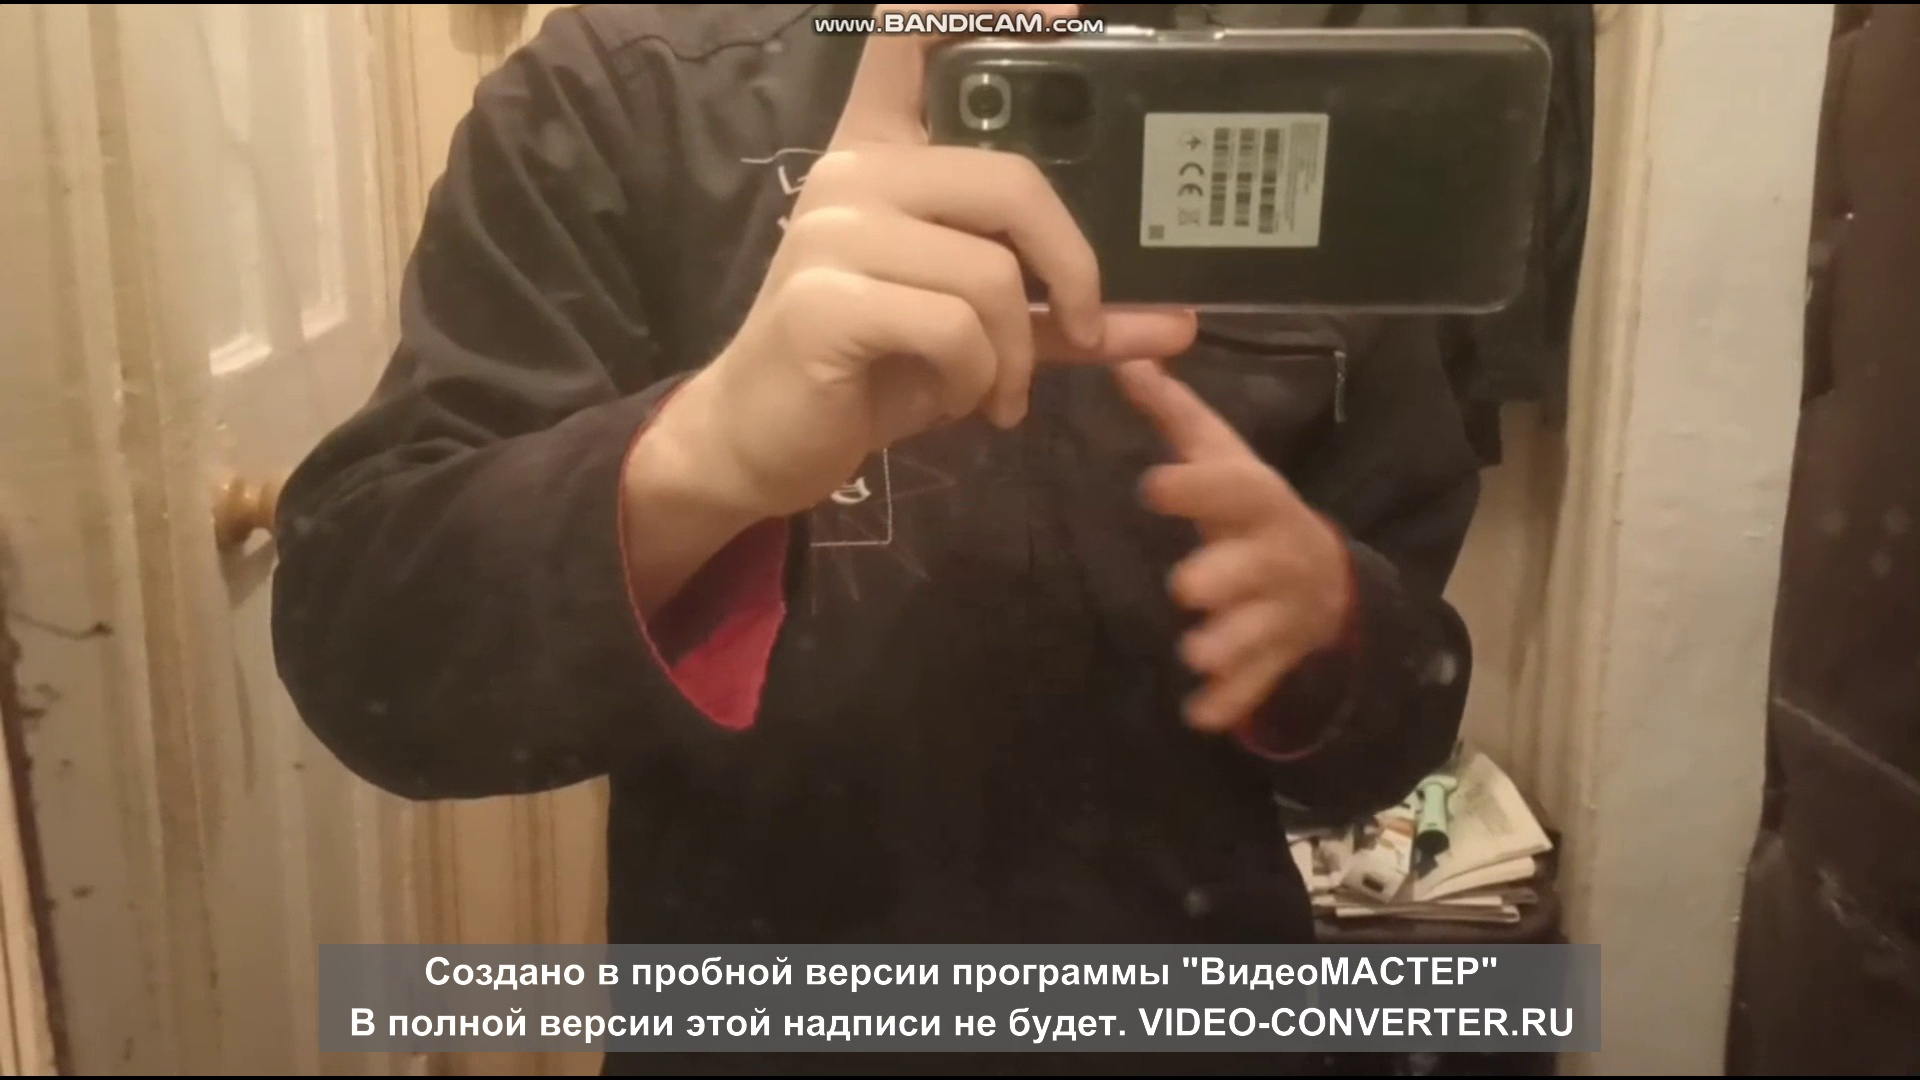Кисть: (1114, 361, 1346, 731)
